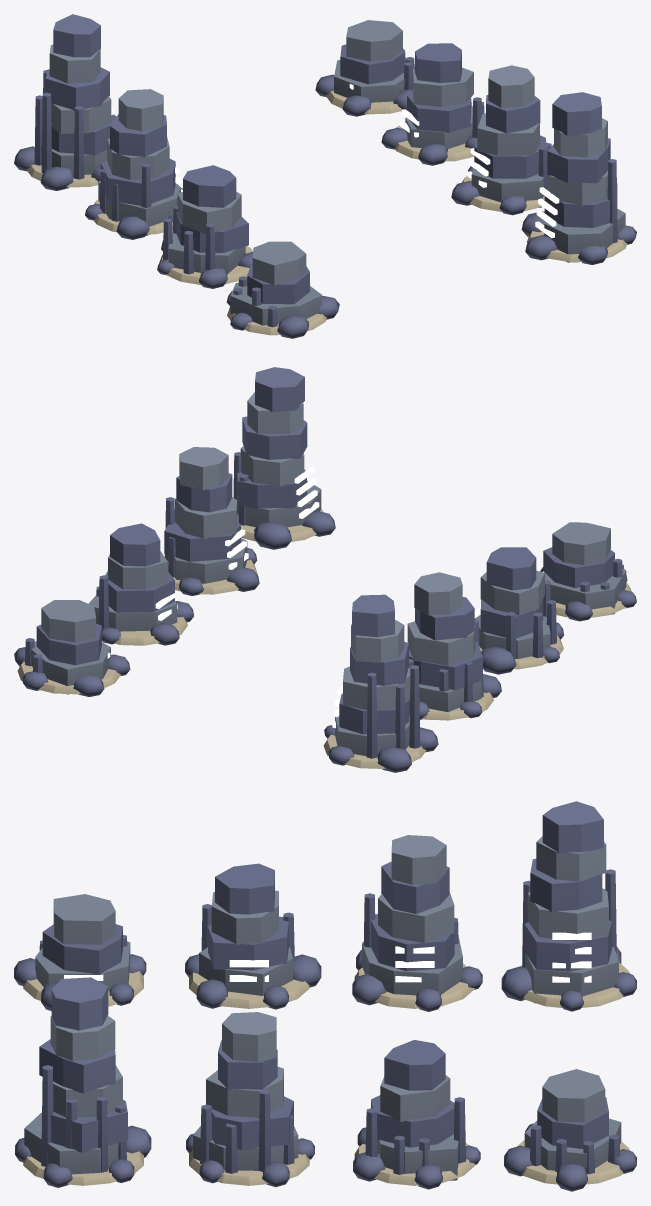
Rendered from landmark-r3-dynamics-canyon.glb.
3 renders of one model, top to bottom at view 1: azimuth 30°, elevation 25°; view 2: azimuth 150°, elevation 25°; view 3: azimuth 270°, elevation 25°, orthographic. The views are drawn at different scales.
Parts seen in each view (by area): view 1: Static_Midnight_stone, Static_Storm_slate, Static_Sea_sand, Glow_level2; view 2: Static_Midnight_stone, Static_Storm_slate, Static_Sea_sand, Glow_level2; view 3: Static_Midnight_stone, Static_Storm_slate, Static_Sea_sand, Glow_level2, Glow_level1.
Boxes of the visible parts, left/top/right/bottom form: Static_Midnight_stone: left=14, top=14, right=636, bottom=338; Static_Storm_slate: left=41, top=20, right=625, bottom=325; Static_Sea_sand: left=26, top=90, right=627, bottom=335; Glow_level2: left=175, top=109, right=556, bottom=226; Static_Midnight_stone: left=14, top=367, right=636, bottom=772; Static_Storm_slate: left=31, top=392, right=626, bottom=756; Static_Sea_sand: left=17, top=509, right=631, bottom=768; Glow_level2: left=155, top=490, right=480, bottom=716; Static_Midnight_stone: left=14, top=801, right=636, bottom=1191; Static_Storm_slate: left=24, top=835, right=621, bottom=1180; Static_Sea_sand: left=23, top=962, right=630, bottom=1185; Glow_level2: left=229, top=960, right=591, bottom=968; Glow_level1: left=64, top=974, right=591, bottom=982.
Bounding box in the file's own units: 130 × 44.79 × 143.
